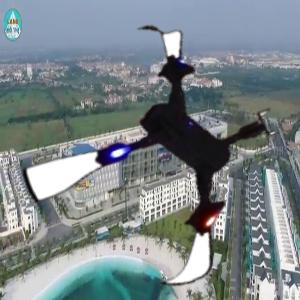drone: (17, 25, 289, 297)
